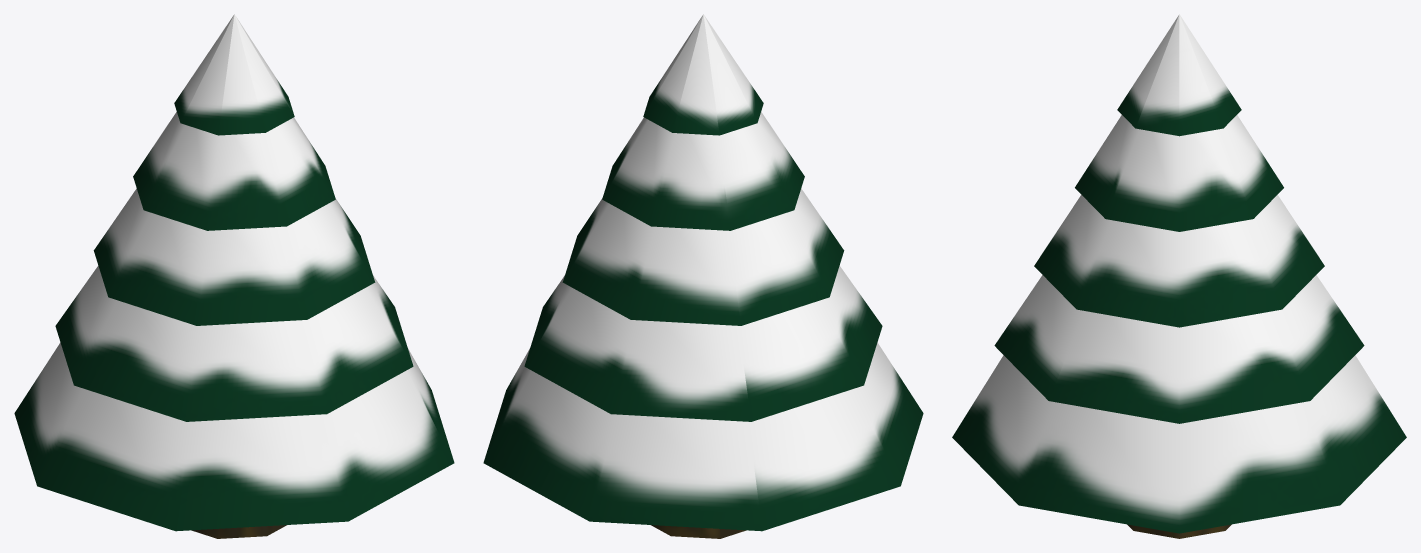
Rendered from Winter_Tree.fbx.
3 views of the same model, side by side, from view 1: azimuth 30°, elevation 25°; view 2: azimuth 150°, elevation 25°; view 3: azimuth 270°, elevation 25° (orthographic).
Parts seen in each view (by area): view 1: Tree; view 2: Tree; view 3: Tree.
Part boxes in pixels (bbox=[...]): Tree: bbox=[14, 14, 454, 538]; Tree: bbox=[483, 14, 923, 538]; Tree: bbox=[952, 14, 1406, 538].
Size of the model in its own units: 40 by 48.27 by 40.
Materials: 1 (1 with a texture image).
